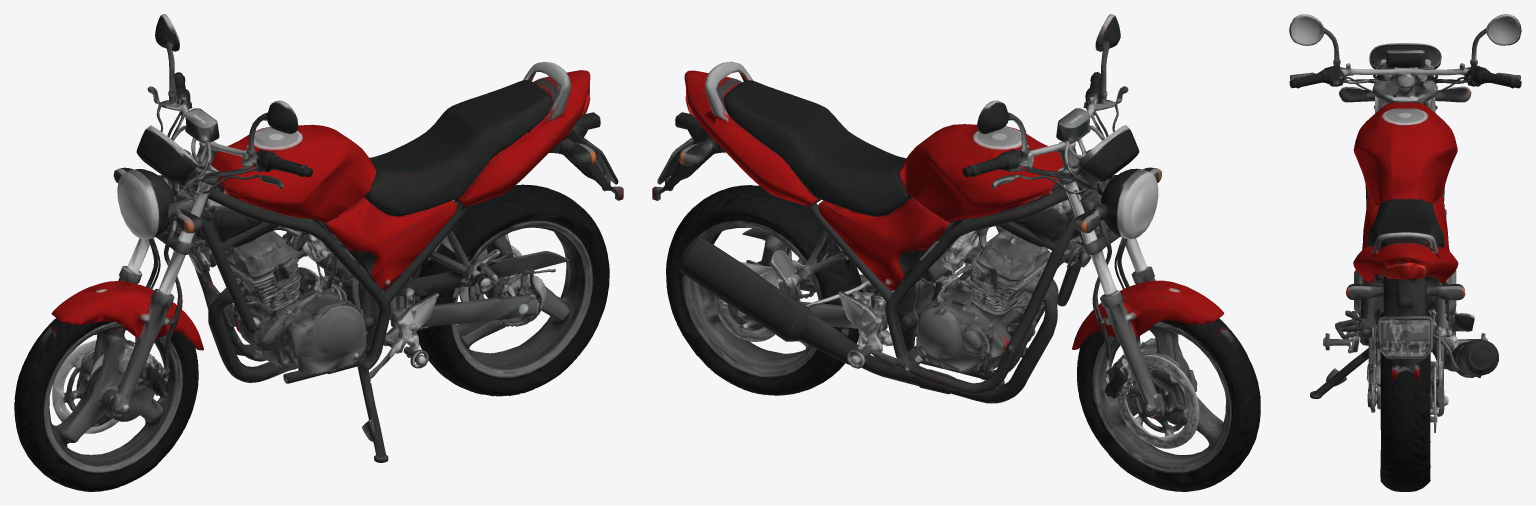
Rendered from rota-110.glb.
3 renders of one model, left to right at view 1: azimuth 30°, elevation 25°; view 2: azimuth 150°, elevation 25°; view 3: azimuth 270°, elevation 25°, orthographic. The views are drawn at different scales.
Bounding box in the file's own units: 1.9 × 1.22 × 0.738.
1 material, 1 textured.
